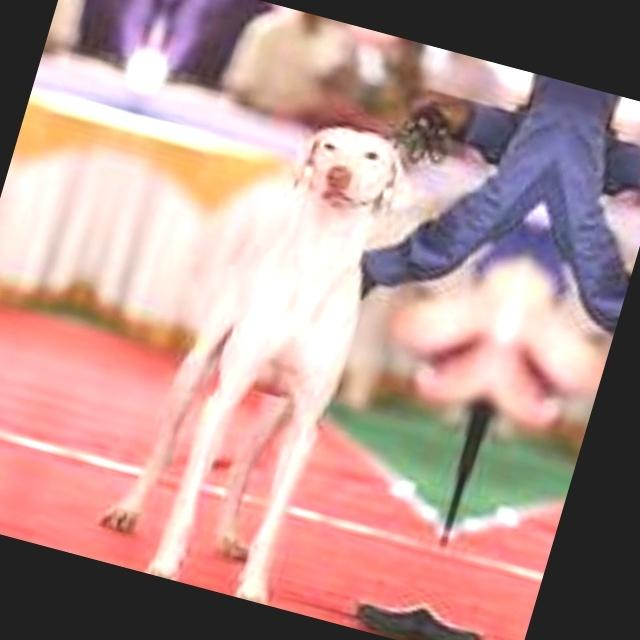dog: (54, 63, 473, 622), (498, 182, 640, 640), (0, 25, 109, 525)
